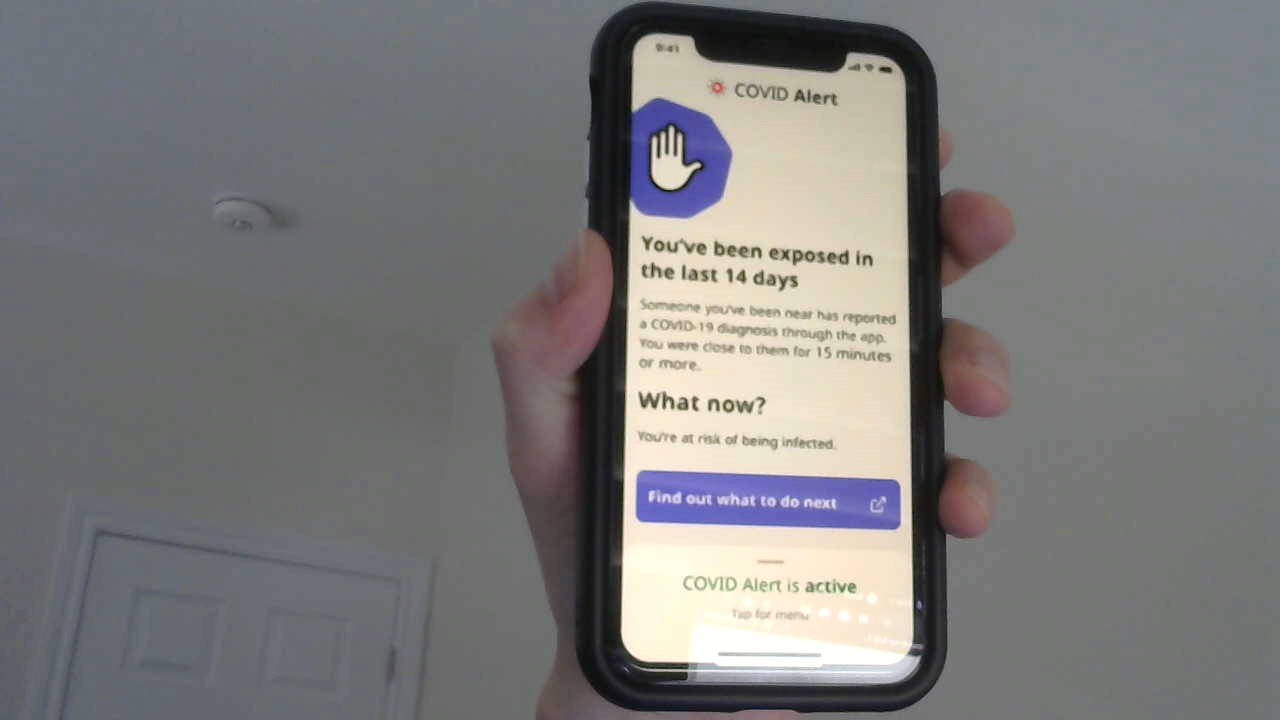Exposed: (596, 94, 928, 295)
